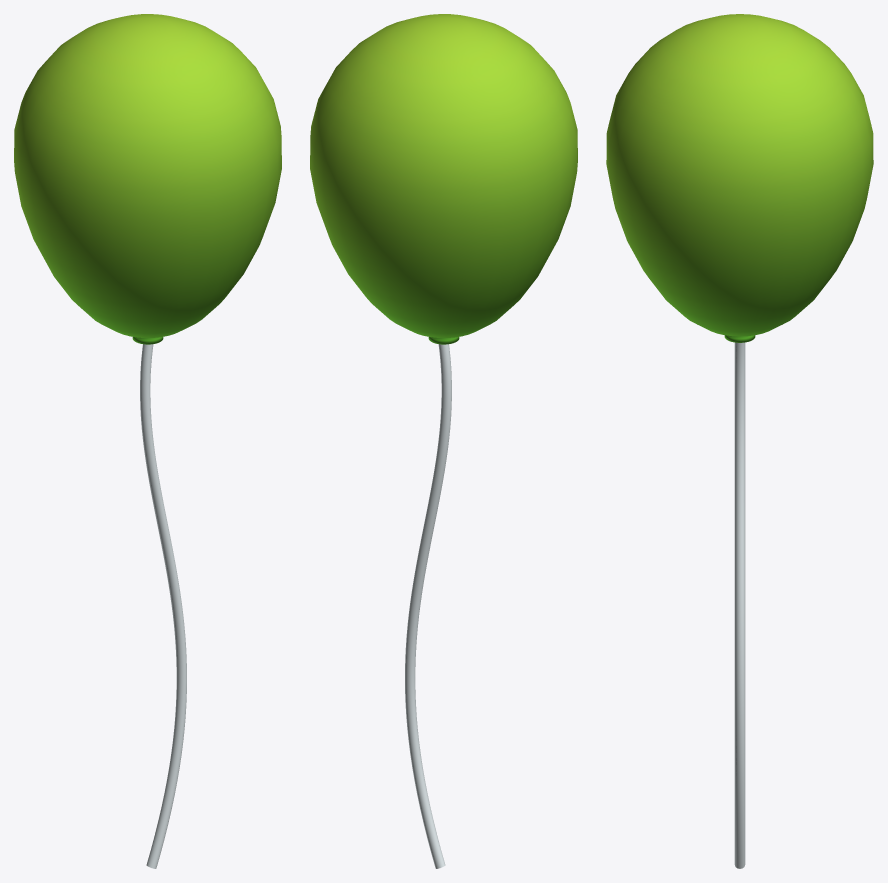
File: Balon Hijau.fbx
The picture shows the model from 3 angles, left to right: view 1: azimuth 30°, elevation 25°; view 2: azimuth 150°, elevation 25°; view 3: azimuth 270°, elevation 25°; orthographic projection.
Parts seen in each view (by area): view 1: Sphere.003, NurbsPath.002; view 2: Sphere.003, NurbsPath.002; view 3: Sphere.003, NurbsPath.002.
Boxes of the visible parts, box(x1,y1,x2,y2) form: Sphere.003: box(14, 14, 281, 344); NurbsPath.002: box(140, 344, 186, 868); Sphere.003: box(310, 14, 577, 344); NurbsPath.002: box(405, 344, 451, 868); Sphere.003: box(606, 14, 873, 342); NurbsPath.002: box(734, 342, 745, 868).
Size of the model in its own units: 62.72 by 217 by 62.72.
